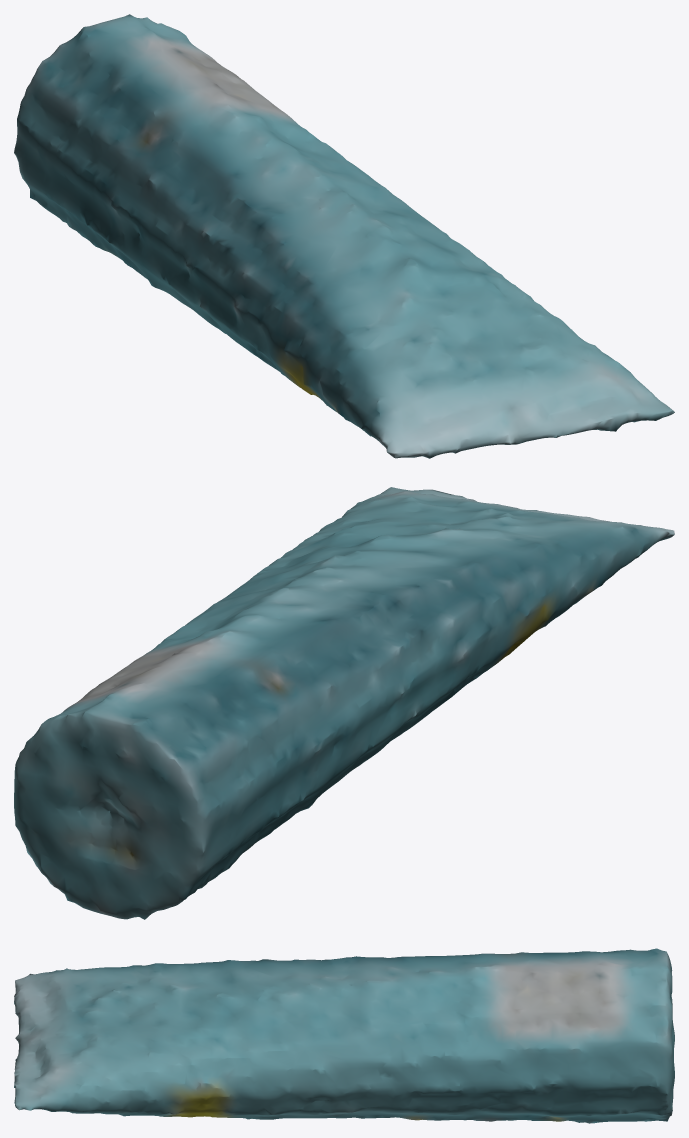
Rendered from oil.glb.
3 renders of one model, top to bottom at view 1: azimuth 30°, elevation 25°; view 2: azimuth 150°, elevation 25°; view 3: azimuth 270°, elevation 25°, orthographic. The views are drawn at different scales.
Size of the model in its own units: 0.3881 by 0.2522 by 0.9927.
